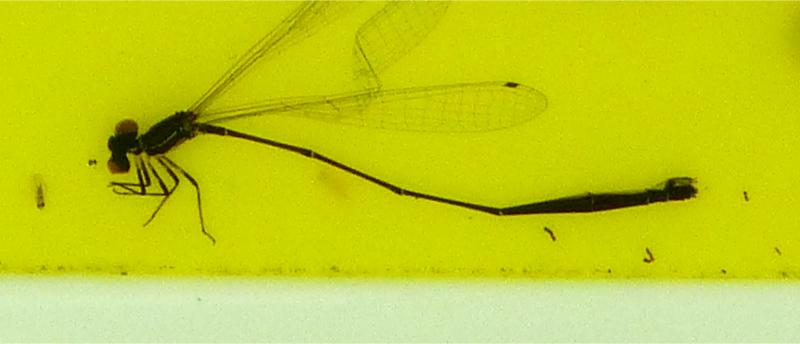Hemiptera: (30, 174, 48, 210)
Odonata: (100, 100, 700, 244)
